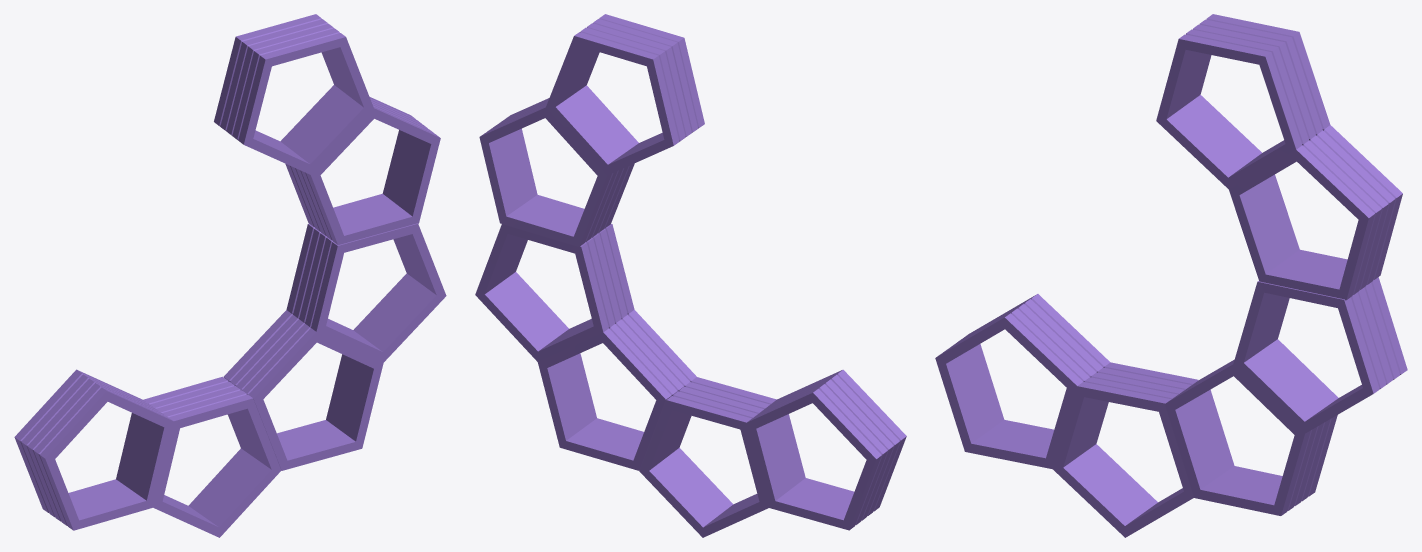
File: Shelf cube.fbx
3 views of the same model, side by side, from view 1: azimuth 30°, elevation 25°; view 2: azimuth 150°, elevation 25°; view 3: azimuth 330°, elevation 25° (orthographic). The views are drawn at different scales.
Visible parts, largest first — view 1: Shelf cube; view 2: Shelf cube; view 3: Shelf cube.
Boxes of the visible parts, <box> form: Shelf cube: <box>14,14,446,537</box>; Shelf cube: <box>475,14,906,537</box>; Shelf cube: <box>935,14,1407,537</box>.
Bounding box in the file's own units: 171 × 192 × 24.36.
Materials: 1 (1 with a texture image).
